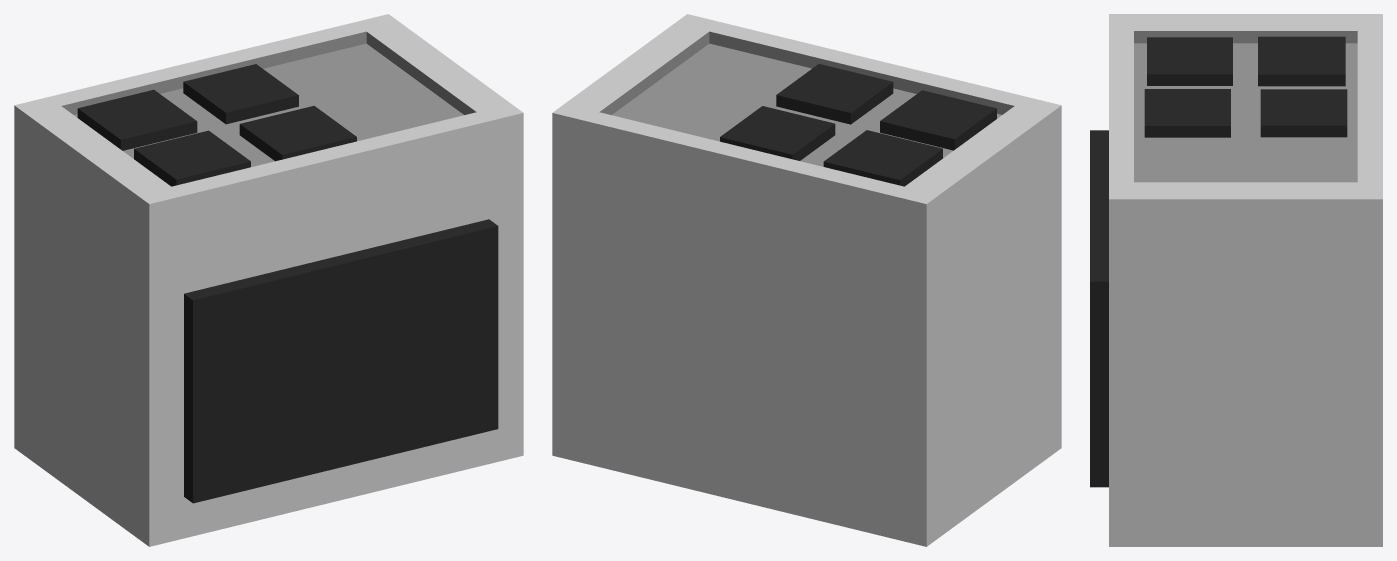
The model's file is cooker.fbx.
3 renders of one model, left to right at view 1: azimuth 30°, elevation 25°; view 2: azimuth 150°, elevation 25°; view 3: azimuth 270°, elevation 25°, orthographic.
Parts seen in each view (by area): view 1: pCube1; view 2: pCube1; view 3: pCube1.
Boxes of the visible parts, <box> form: pCube1: <box>14,14,523,546</box>; pCube1: <box>552,14,1061,546</box>; pCube1: <box>1090,14,1382,546</box>.
Size of the model in its own units: 10 by 8.75 by 6.68.
Materials: 1 (1 with a texture image).
